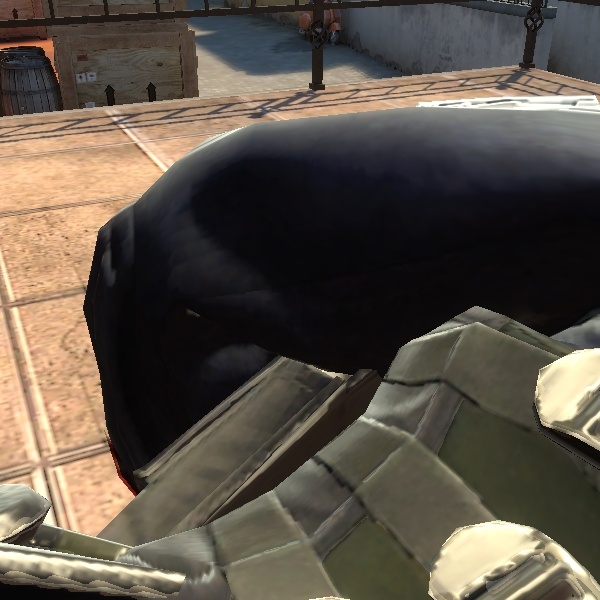t_body: (513, 1, 565, 69)
